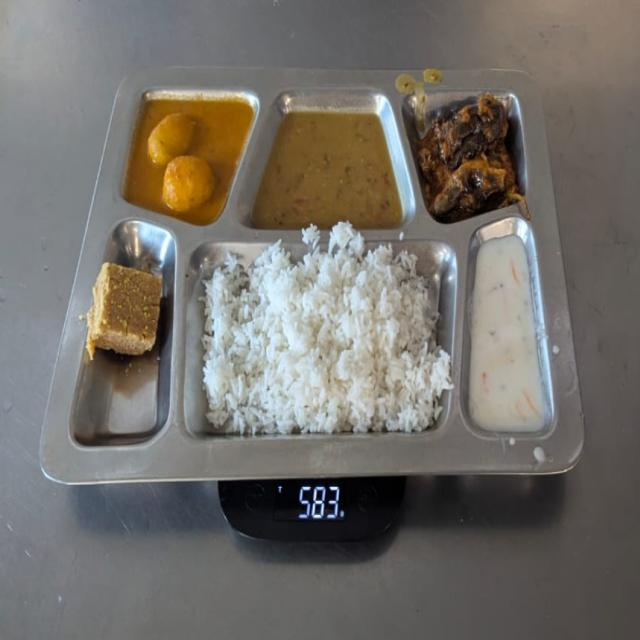Baigan Sabji: (414, 93, 518, 221)
Dal: (260, 97, 410, 231)
Dum aloo: (119, 82, 257, 228)
Mysore Pak: (84, 251, 168, 382)
Raita: (465, 233, 551, 439)
White Rice: (193, 224, 456, 439)
